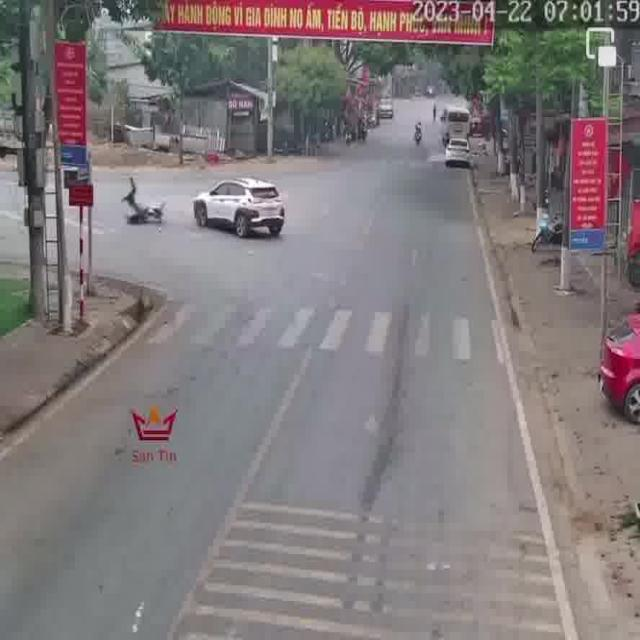multiple_accident: (118, 167, 289, 249)
